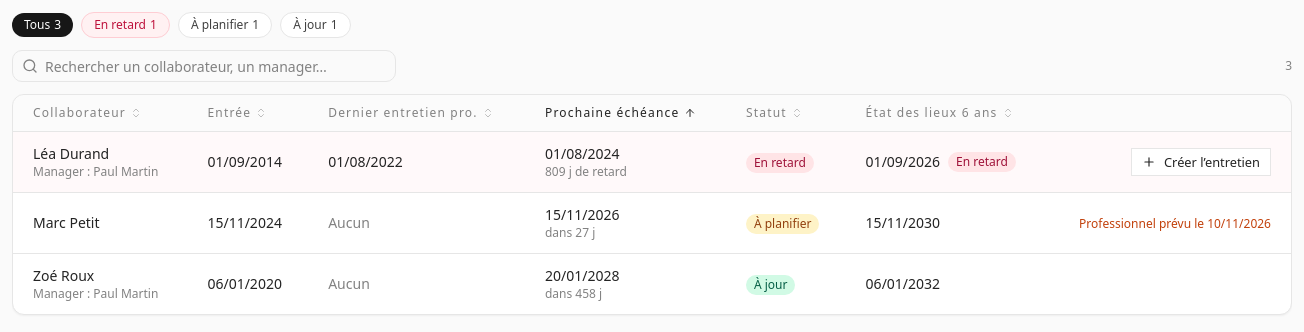
it: SuiviLegalTable › filtre par statut
The width and height of the screenshot is (1304, 332).
Click the button "En retard 1".
click(125, 25)  # box [81,12,170,38]
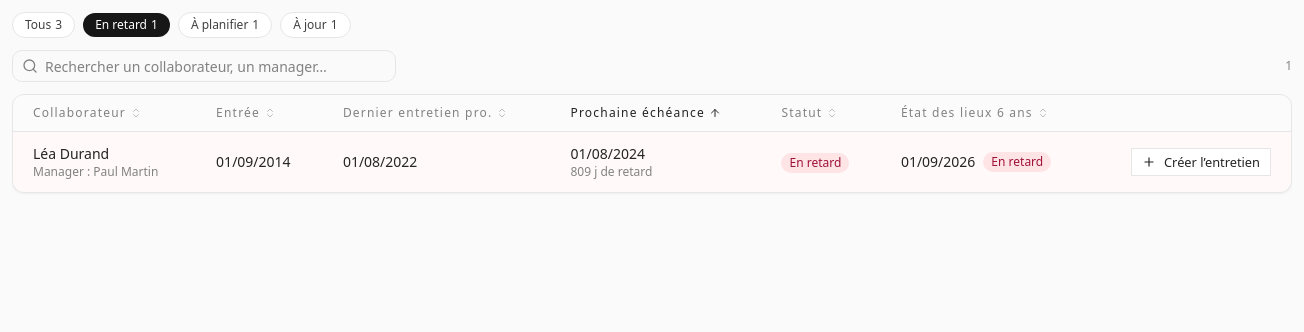
Expected: the text "Léa Durand" is shown, [33,144,109,163]
Now the text "Marc Petit" is gone
Now the text "Zoé Roux" is gone
